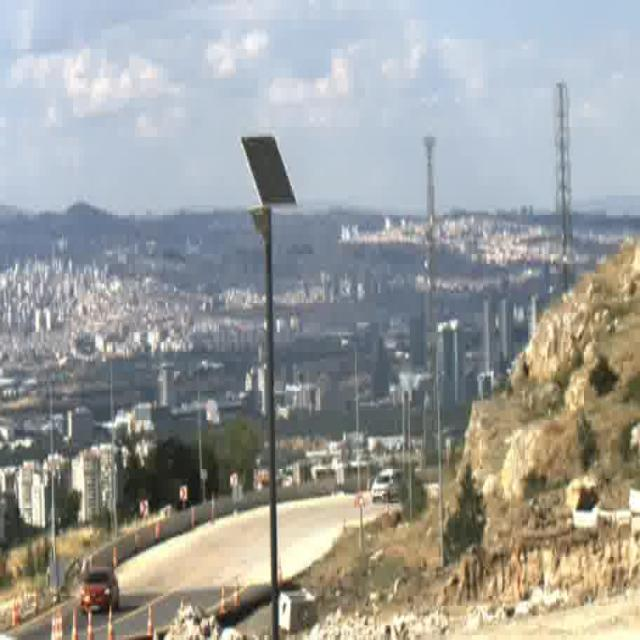Car: (81, 567, 120, 617), (371, 470, 405, 503)
